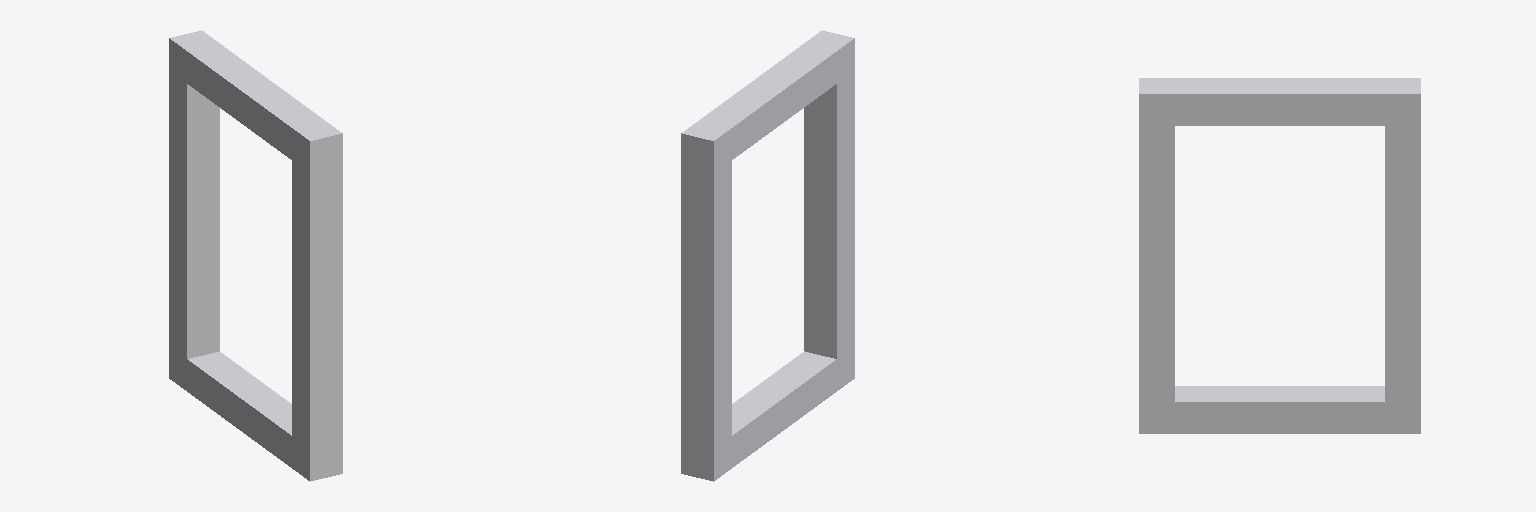
Rendered from detail_017.obj.
3 renders of one model, left to right at view 1: azimuth 30°, elevation 25°; view 2: azimuth 150°, elevation 25°; view 3: azimuth 270°, elevation 25°, orthographic.
Parts seen in each view (by area): view 1: detail_017; view 2: detail_017; view 3: detail_017.
Boxes of the visible parts, box(x1,y1,x2,y2) form: detail_017: box(169, 30, 342, 481); detail_017: box(681, 30, 854, 481); detail_017: box(1139, 78, 1420, 433).
Size of the model in its own units: 0.05 by 0.5 by 0.375.